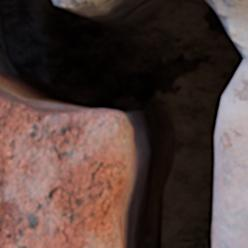broken_brick: (0, 94, 127, 247), (216, 57, 247, 247)
crack: (0, 0, 246, 247)
